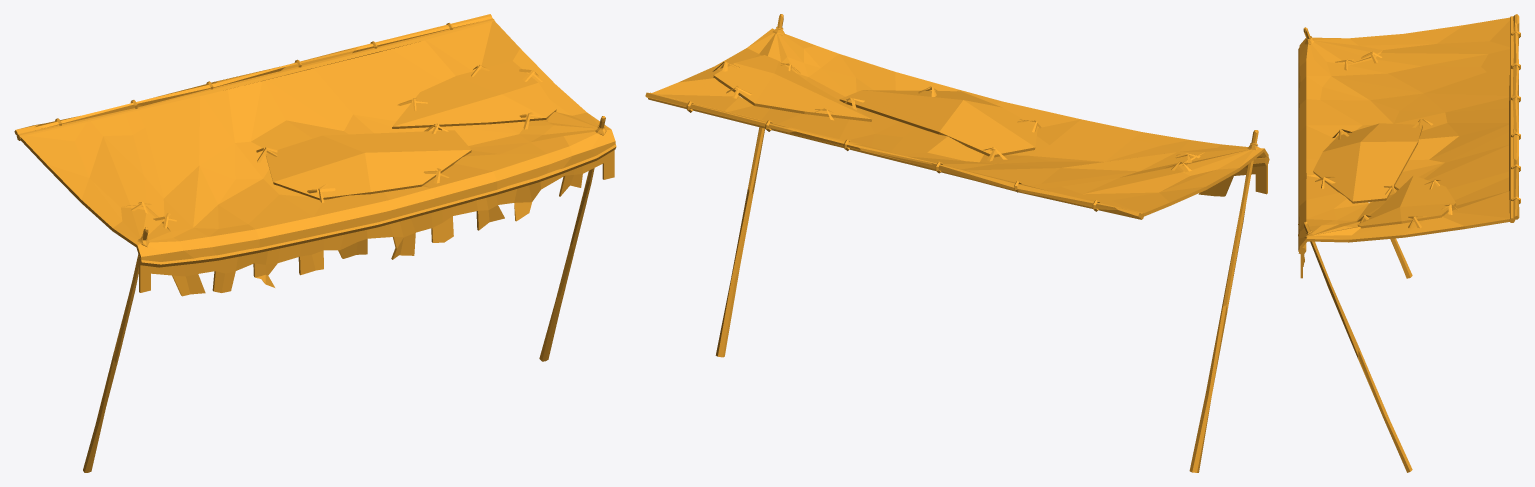
Rendered from SM_Tent_Porch_Wide_Plain_Repaired_Fantasy.fbx.
3 renders of one model, left to right at view 1: azimuth 30°, elevation 25°; view 2: azimuth 150°, elevation 25°; view 3: azimuth 270°, elevation 25°, orthographic. The views are drawn at different scales.
Visible parts, largest first — view 1: tent-porch-wide-plain-repaired-fantasy; view 2: tent-porch-wide-plain-repaired-fantasy; view 3: tent-porch-wide-plain-repaired-fantasy.
Part boxes in pixels (x1,y1,x2,y2): tent-porch-wide-plain-repaired-fantasy: [14, 14, 616, 472]; tent-porch-wide-plain-repaired-fantasy: [645, 14, 1269, 472]; tent-porch-wide-plain-repaired-fantasy: [1298, 14, 1520, 472].
Size of the model in its own units: 4.72 by 2.86 by 2.21.
